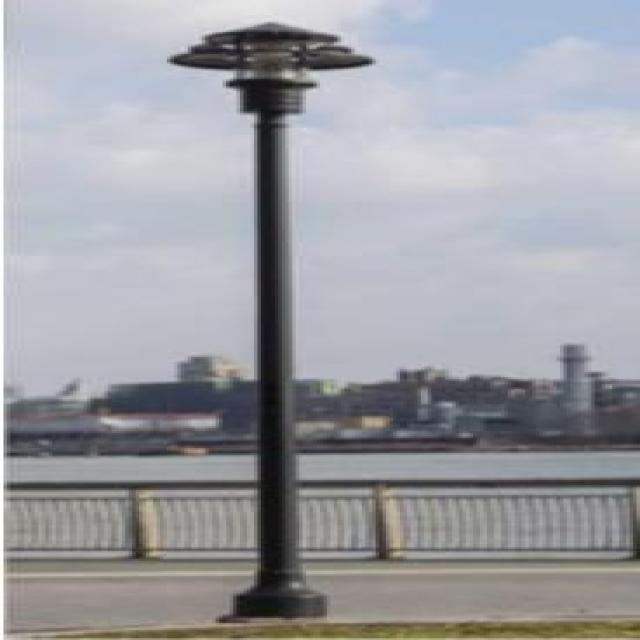off: (175, 0, 394, 142)
